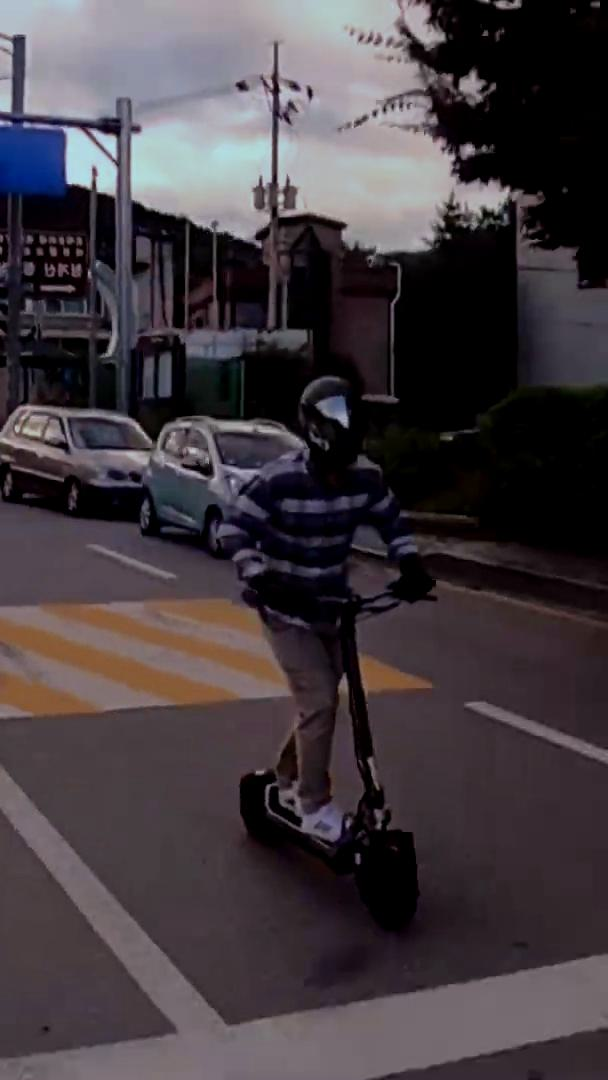helmet: (215, 372, 442, 934)
